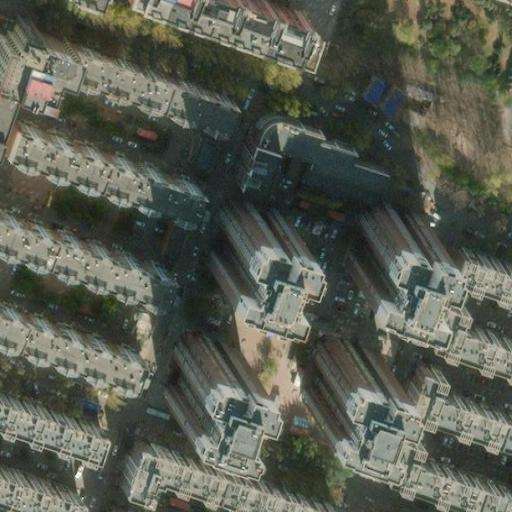building: (108, 440, 324, 512), (65, 32, 225, 116), (0, 210, 155, 296), (228, 119, 379, 203), (378, 430, 512, 512), (0, 305, 129, 382), (398, 357, 512, 444), (289, 321, 378, 411), (337, 196, 426, 286), (150, 321, 238, 407), (200, 191, 287, 277), (169, 0, 319, 46), (0, 384, 90, 448), (424, 309, 512, 367), (441, 241, 512, 297), (0, 464, 67, 512), (154, 216, 191, 270)
